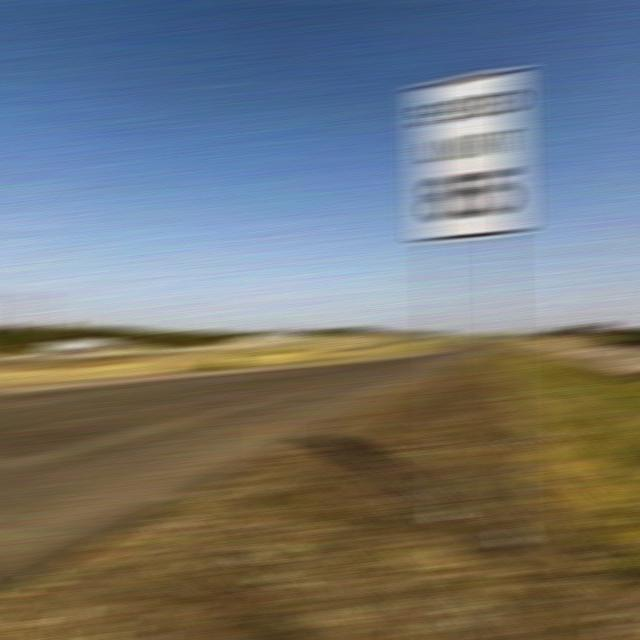speedLimit85: (408, 77, 544, 240)
